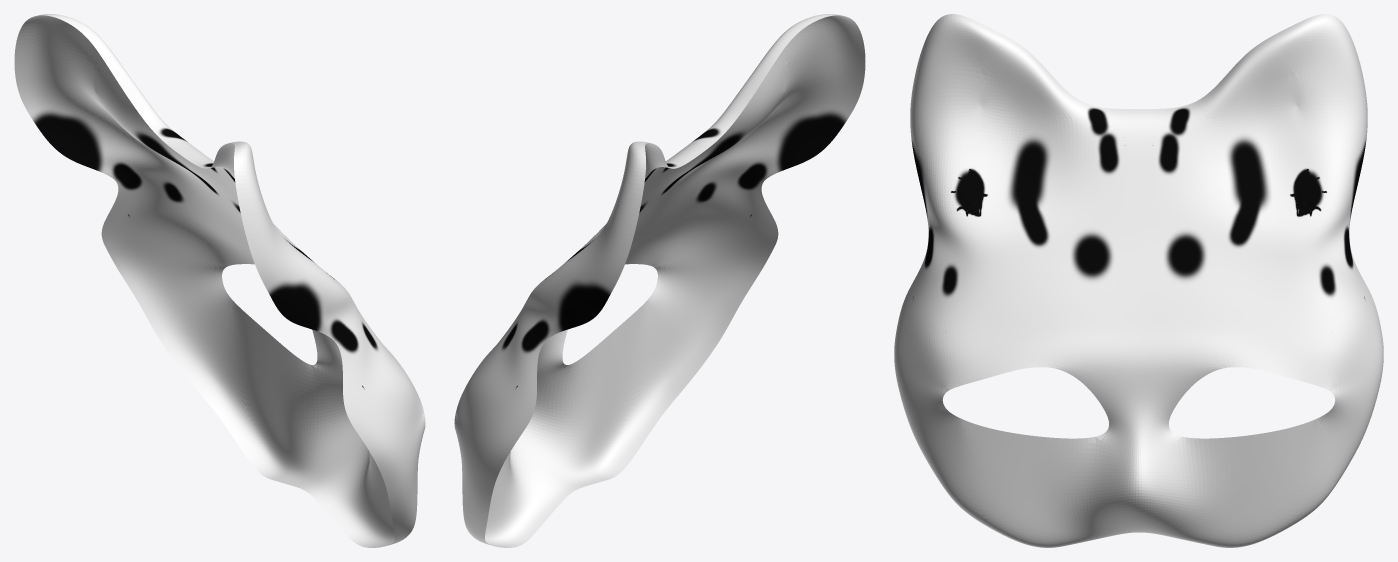
The model's file is p5_mask.fbx.
The picture shows the model from 3 angles, left to right: view 1: azimuth 30°, elevation 25°; view 2: azimuth 150°, elevation 25°; view 3: azimuth 270°, elevation 25°; orthographic projection. The views are drawn at different scales.
Parts seen in each view (by area): view 1: Plane; view 2: Plane; view 3: Plane.
Part boxes in pixels (x1,y1,x2,y2): Plane: (14, 14, 425, 547); Plane: (454, 14, 865, 547); Plane: (894, 14, 1383, 547).
Bounding box in the file's own units: 83.48 × 148 × 147.
